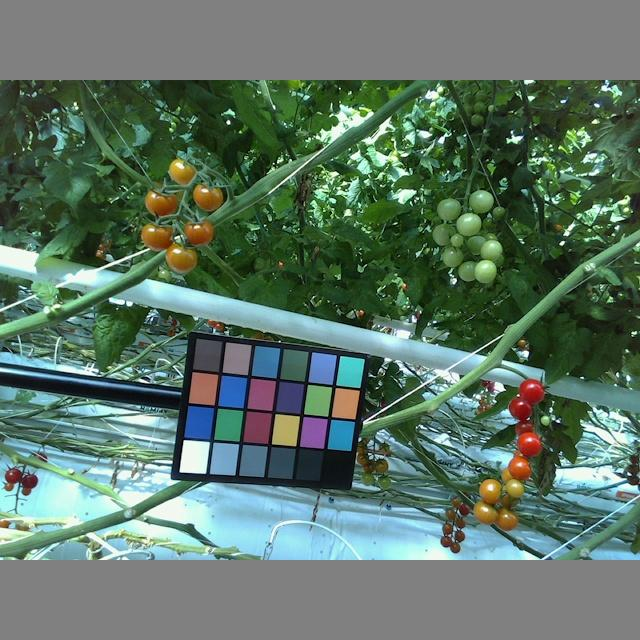green: (456, 211, 483, 239), (468, 188, 494, 215), (432, 222, 459, 248), (457, 257, 482, 284), (433, 198, 462, 221), (440, 244, 464, 267), (478, 240, 504, 261), (477, 258, 498, 283)
pink: (140, 219, 176, 251), (165, 243, 199, 273), (144, 188, 179, 217), (182, 218, 215, 247), (192, 181, 224, 210), (168, 156, 200, 184), (473, 497, 498, 530), (479, 476, 504, 507), (494, 507, 519, 533), (507, 457, 532, 481), (505, 478, 523, 499)
red: (518, 430, 545, 459), (517, 378, 547, 404), (509, 398, 534, 423)
